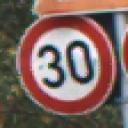speed_limit_30: (13, 12, 120, 116)
